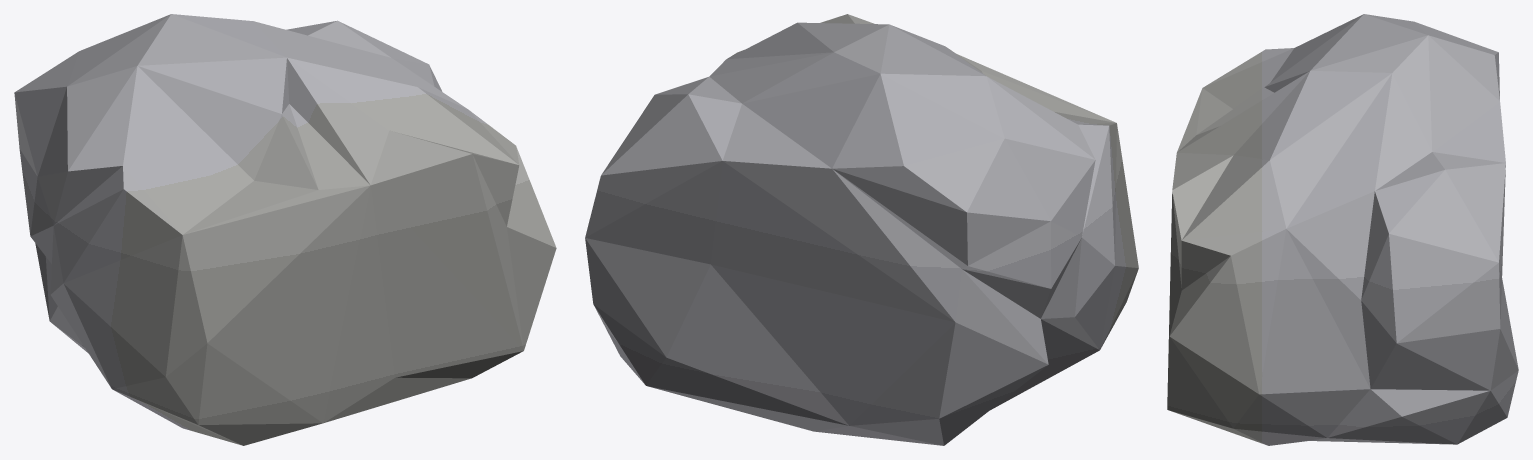
Rendered from YN_Boulder2.fbx.
3 views of the same model, side by side, from view 1: azimuth 30°, elevation 25°; view 2: azimuth 150°, elevation 25°; view 3: azimuth 270°, elevation 25° (orthographic). The views are drawn at different scales.
Parts seen in each view (by area): view 1: Boulder2; view 2: Boulder2; view 3: Boulder2.
Boxes of the visible parts, x1=… form: Boulder2: x1=14, y1=14, x2=556, y2=445; Boulder2: x1=585, y1=14, x2=1138, y2=445; Boulder2: x1=1167, y1=14, x2=1518, y2=445.
Bounding box in the file's own units: 4.66 × 3.62 × 3.34.
